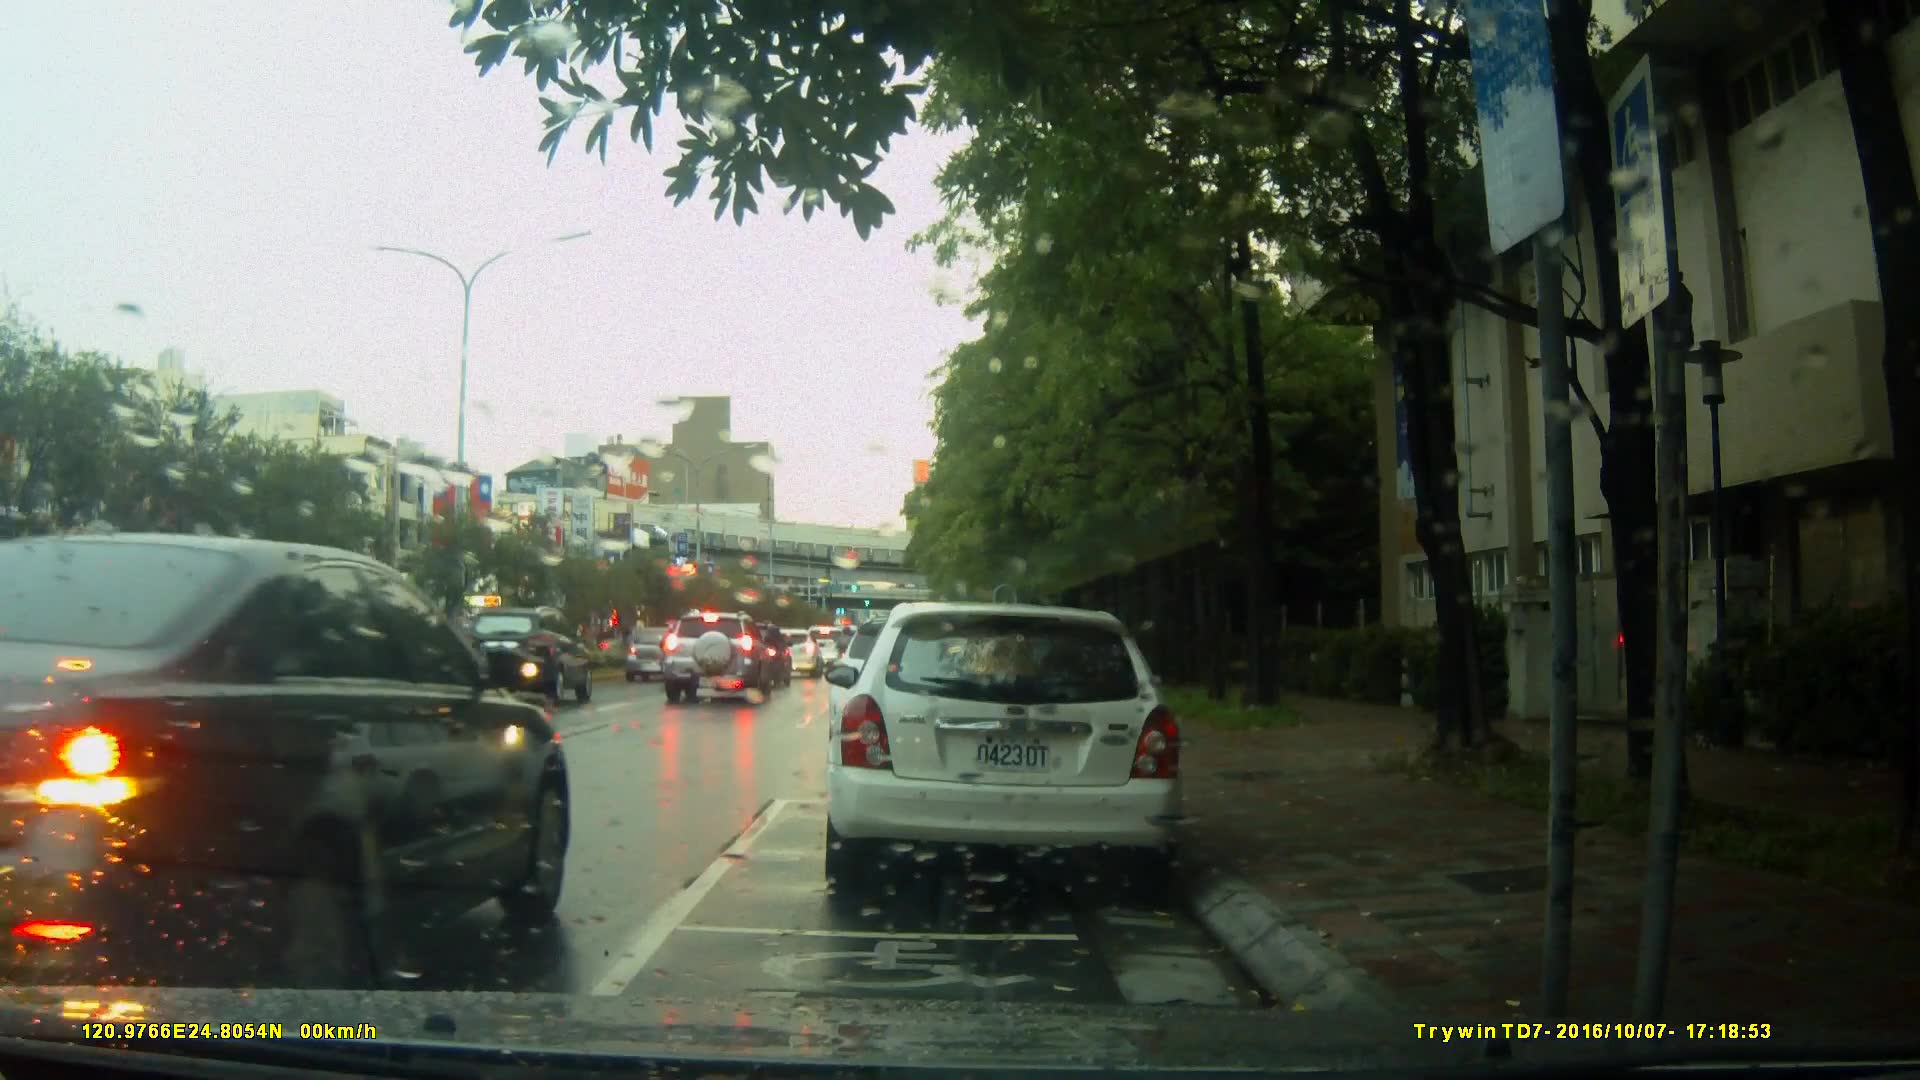rider: (835, 625, 863, 685)
vehicle: (1, 526, 574, 993), (820, 602, 1188, 898), (452, 605, 596, 708), (663, 611, 770, 707)
